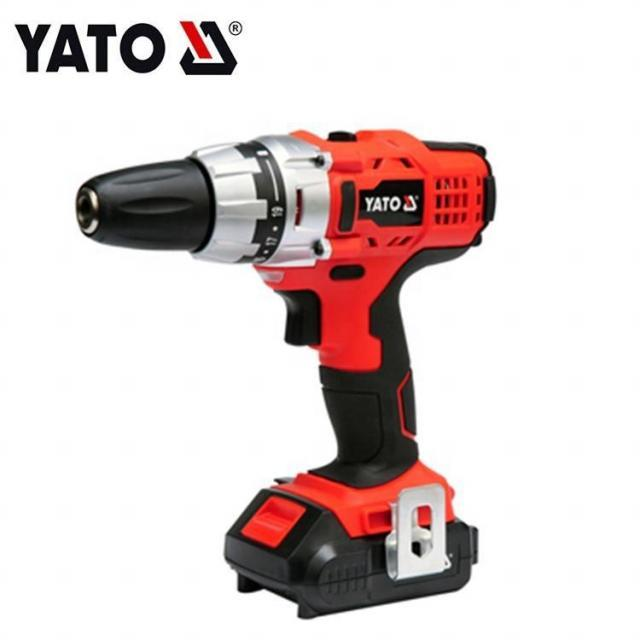drill: (74, 128, 498, 620)
